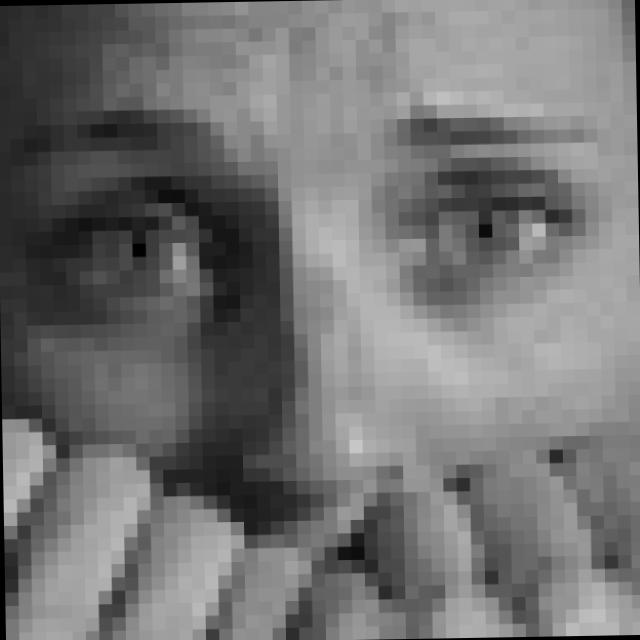fear: (21, 96, 600, 599)
